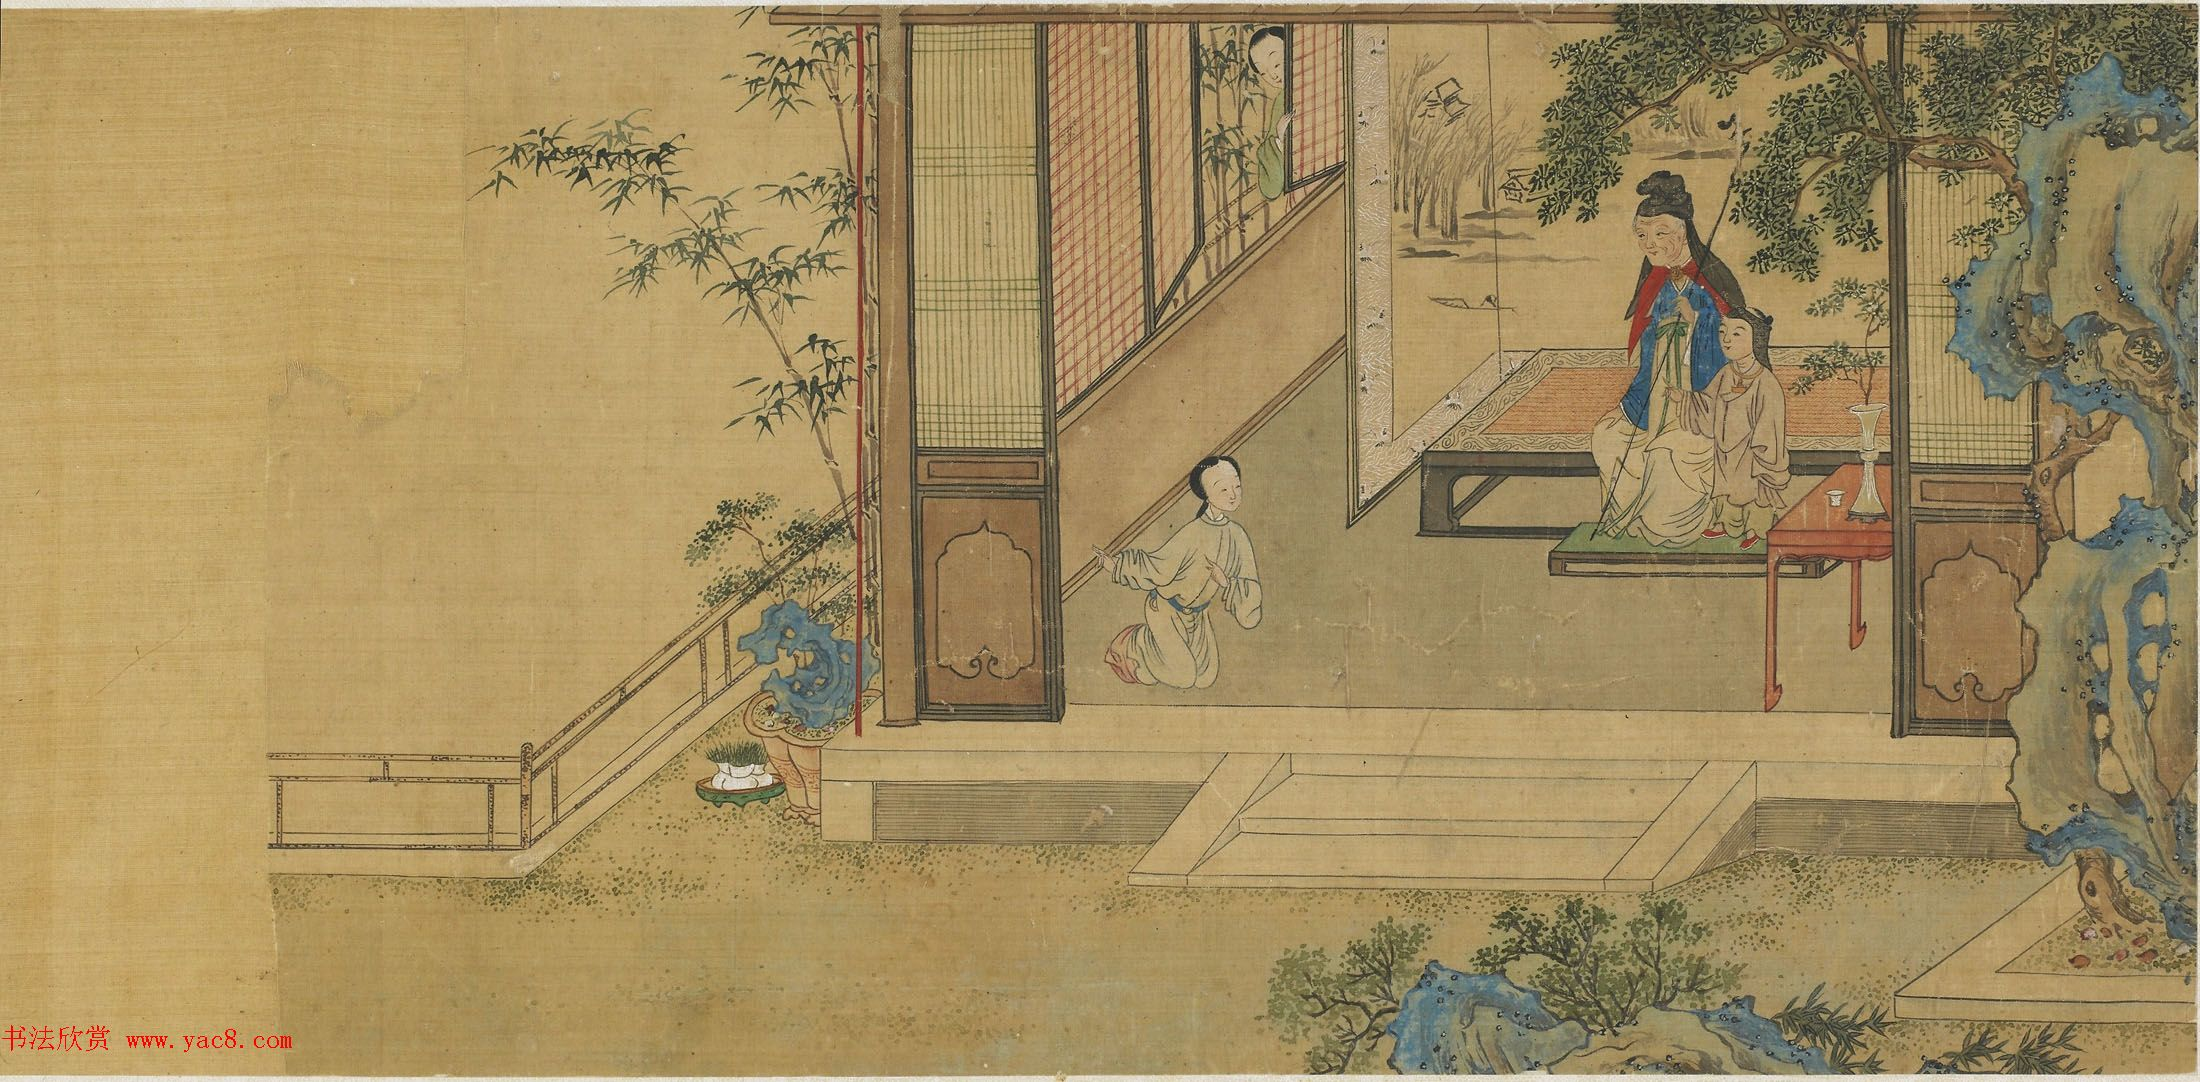bamboo: (778, 49, 873, 463), (622, 227, 779, 327), (521, 138, 708, 201)
decoration: (1852, 408, 1895, 531)
grass: (1530, 927, 1716, 1006), (1313, 952, 1422, 1068), (716, 508, 841, 603)
house: (900, 25, 1067, 722), (1362, 35, 1511, 525), (1067, 22, 1192, 458), (1513, 228, 1598, 465), (1206, 262, 1346, 382)
kid: (1111, 476, 1259, 690), (1722, 324, 1790, 520), (1246, 36, 1309, 222), (1192, 454, 1235, 474)
man: (1617, 200, 1719, 538)
tree: (1619, 12, 2190, 133), (1728, 138, 1881, 258), (1552, 116, 1616, 212)
wall: (262, 752, 538, 871), (551, 722, 692, 828), (616, 646, 722, 719)
